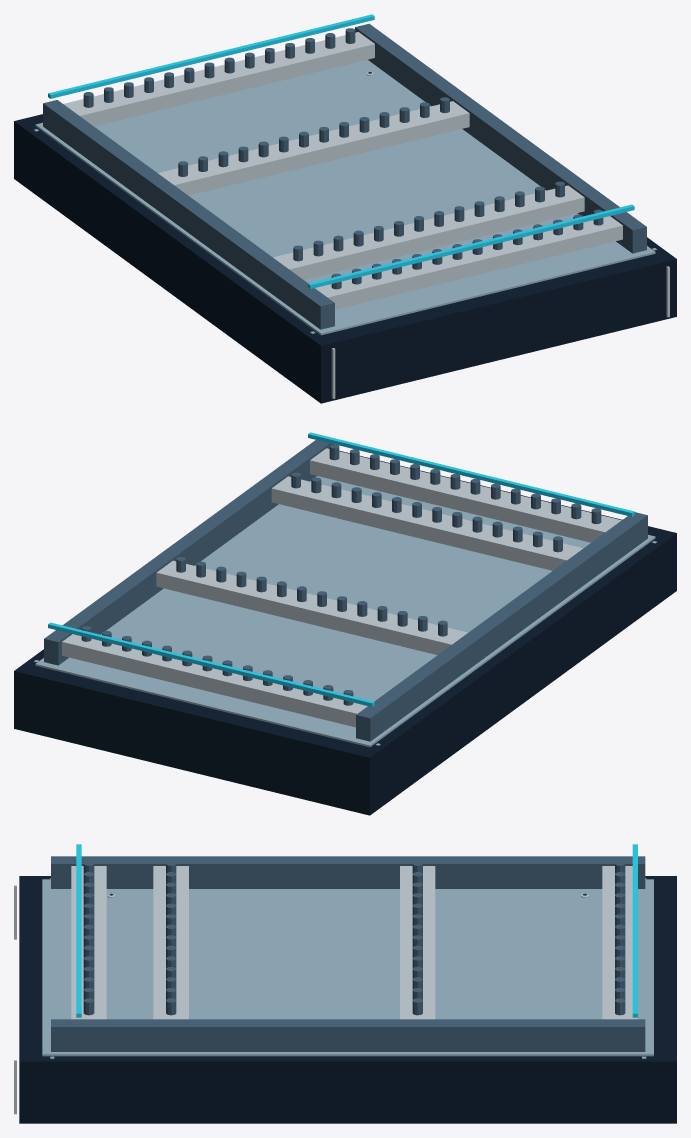
File: 02_L74_AutomatedPhotoresistTrack.fbx
The picture shows the model from 3 angles, top to bottom: view 1: azimuth 30°, elevation 25°; view 2: azimuth 150°, elevation 25°; view 3: azimuth 270°, elevation 25°; orthographic projection. The views are drawn at different scales.
Visible parts, largest first — view 1: AutomatedPhotoresistTrack; view 2: AutomatedPhotoresistTrack; view 3: AutomatedPhotoresistTrack.
Part boxes in pixels (x1,y1,x2,y2): AutomatedPhotoresistTrack: (14,14,676,403); AutomatedPhotoresistTrack: (14,432,676,815); AutomatedPhotoresistTrack: (14,844,676,1123).
Size of the model in its own units: 348 by 88.75 by 524.
